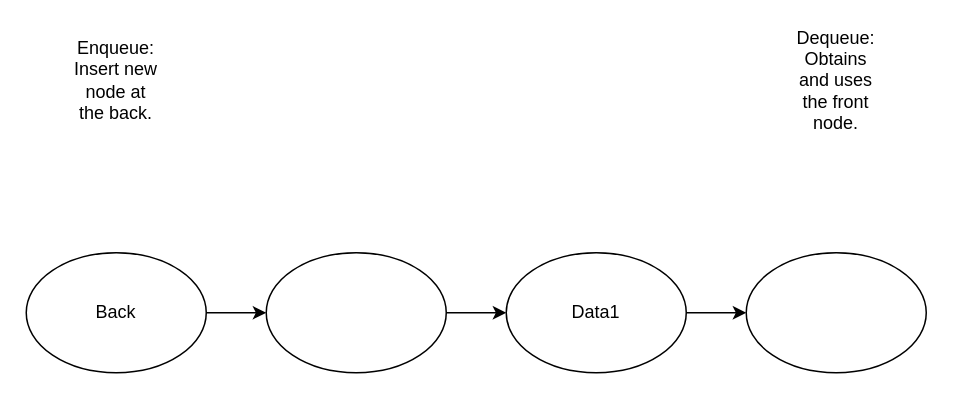
This 953x399 diagram has some shape labels left out. Here are the shapes that lost their labels. From the top down, the centre of each, then its label:
At [355,312]: "Data2".
At [835,312]: "Front".
